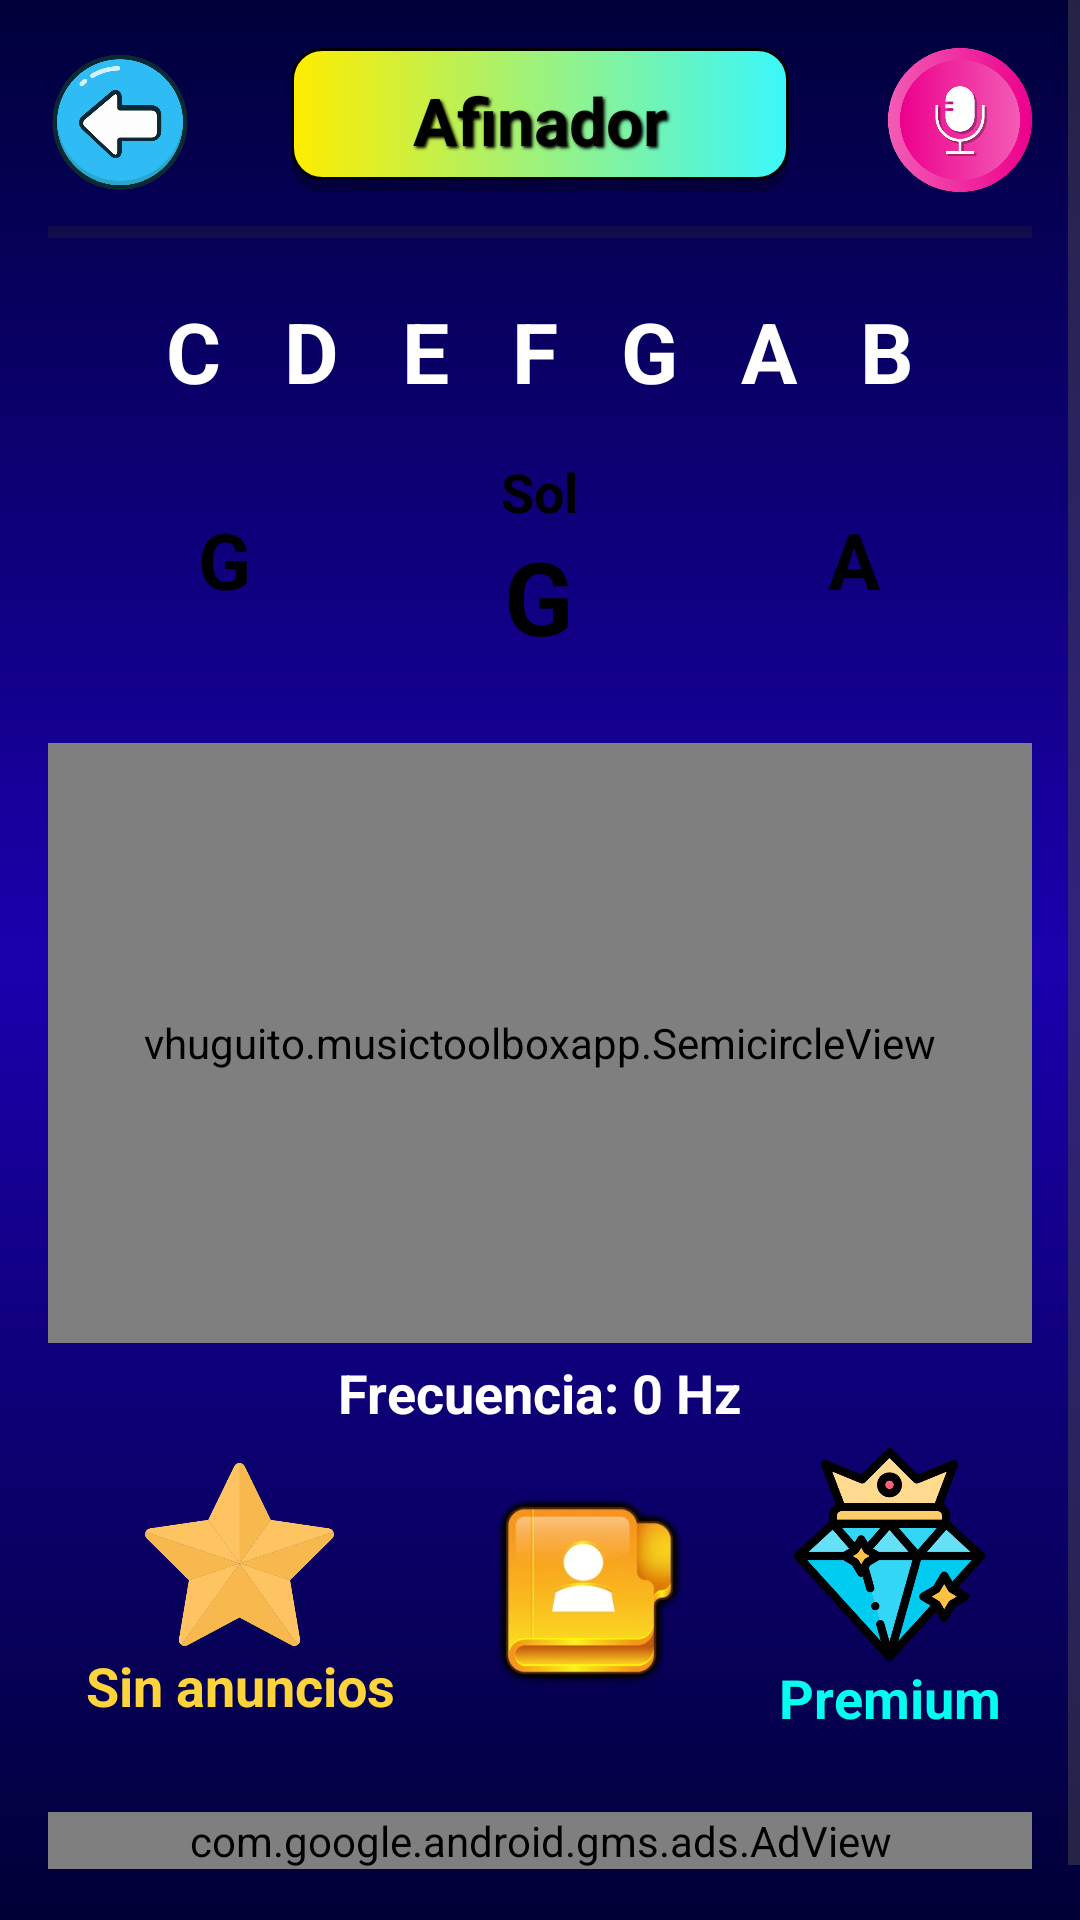

Icons on this 1080w x 1920h Android screen, each with the point to tap as [x,y]:
arrow regresar: [120,122]
diamante: [889,1554]
folder profile: [590,1591]
mic recording: [960,120]
star: [239,1556]
